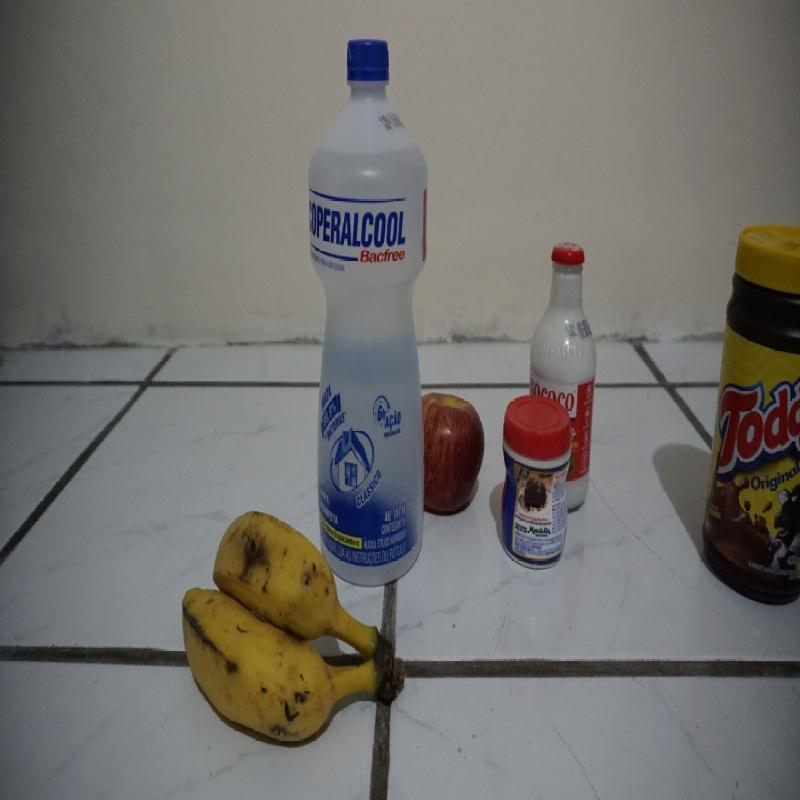Alcohol Bottle: (307, 31, 425, 489)
Apple: (424, 375, 484, 517)
Banana: (178, 512, 401, 756)
Chocolate Powder: (704, 225, 798, 605)
Coconut Milk: (529, 239, 600, 384)
Yeast: (496, 393, 569, 564)
